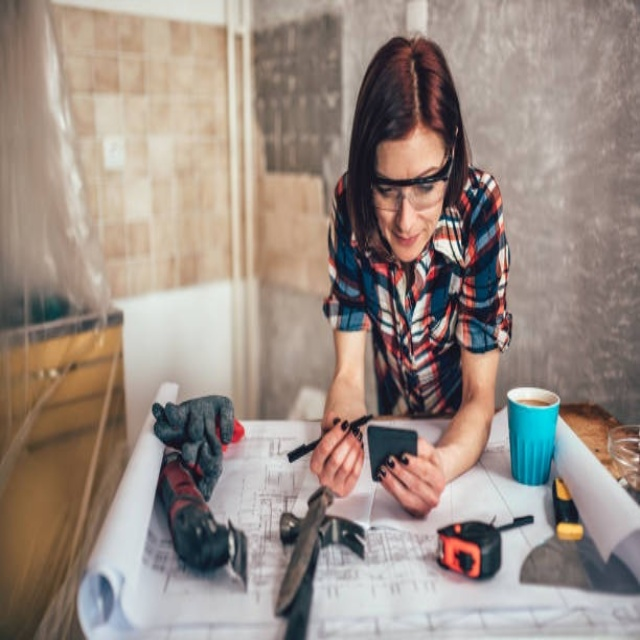Gafas: (370, 147, 455, 215)
Sin_guantes: (375, 438, 446, 518), (310, 418, 366, 499)
Sin_mascara: (385, 223, 429, 262)
